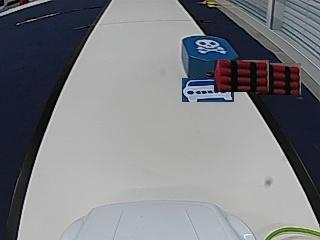danger: (195, 38, 226, 54)
